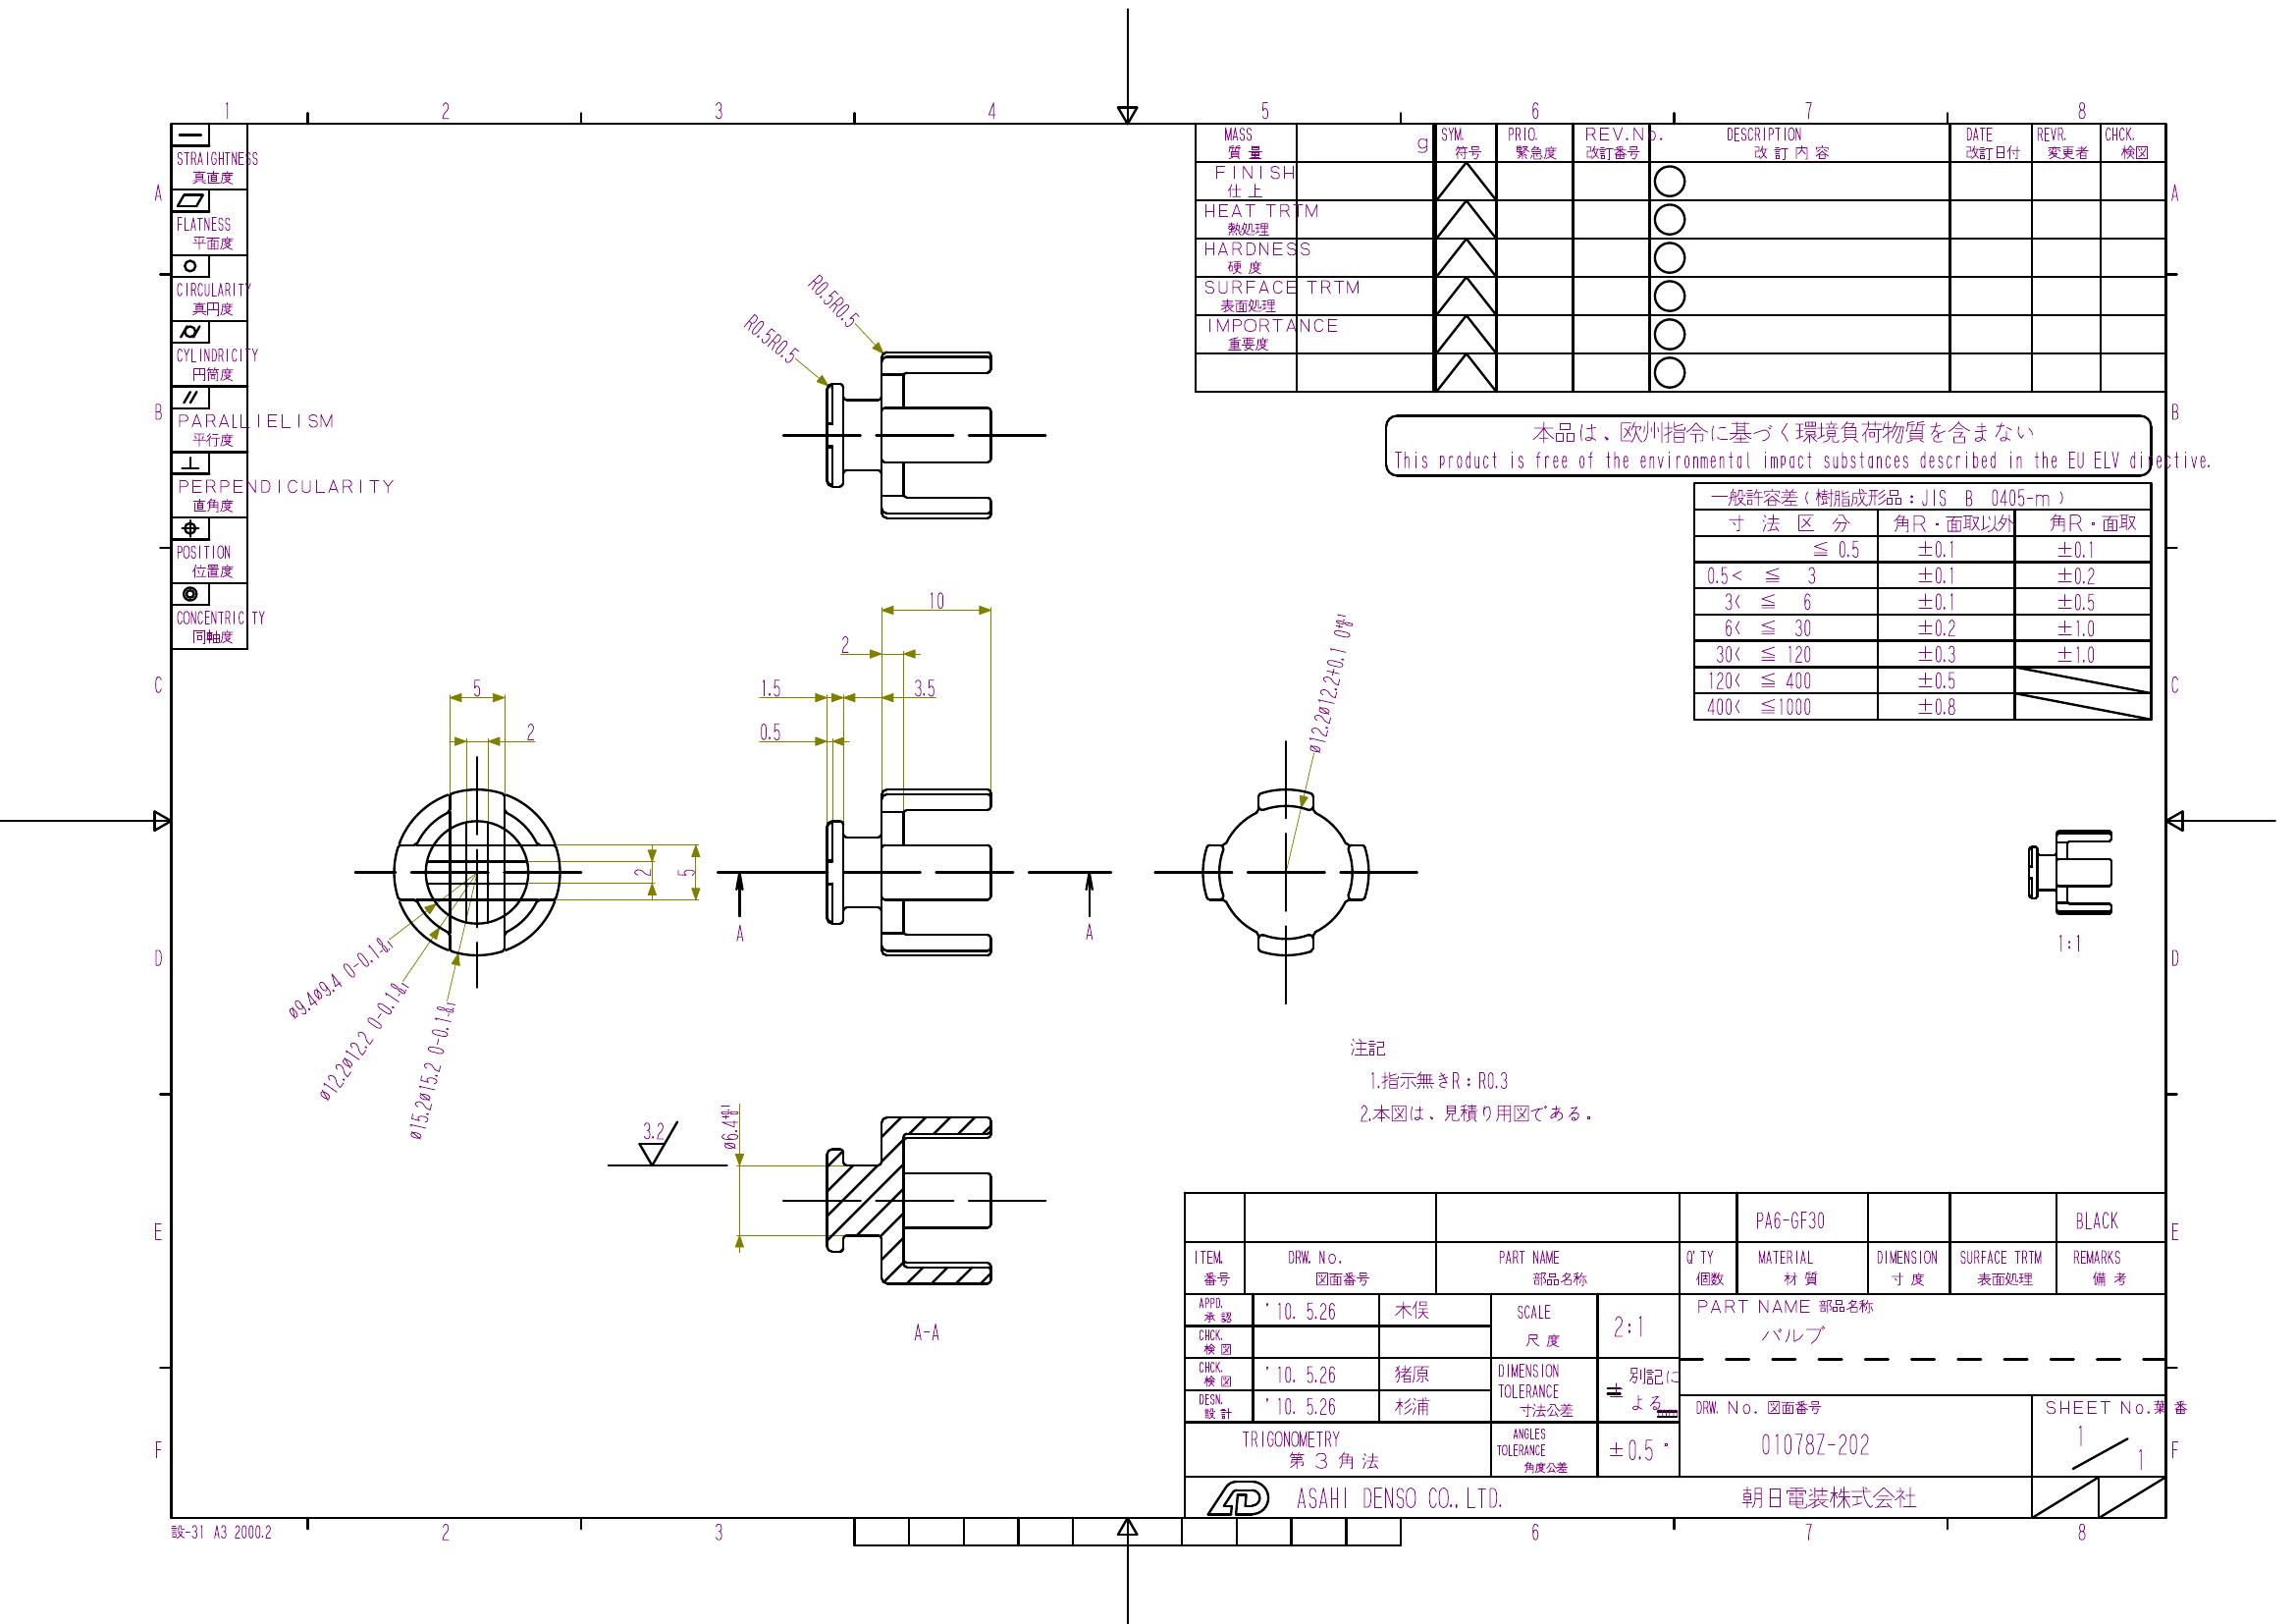anntotation_text: (1383, 415, 2148, 475), (1347, 1028, 1595, 1134), (170, 1519, 279, 1543), (908, 1318, 945, 1345), (2055, 932, 2087, 953), (729, 921, 752, 942), (1080, 923, 1100, 942)
dimension_text: (1312, 603, 1347, 752), (415, 998, 446, 1142), (281, 1025, 437, 1053), (272, 965, 401, 991), (733, 325, 806, 350), (801, 290, 870, 311), (720, 1100, 738, 1155), (910, 675, 936, 700), (924, 589, 952, 612), (755, 677, 783, 700), (638, 1121, 669, 1141), (757, 719, 783, 740), (631, 859, 653, 881), (522, 719, 541, 743), (467, 675, 487, 698), (838, 631, 854, 652), (675, 865, 694, 881)
object: (822, 786, 991, 954), (1200, 789, 1370, 956), (824, 348, 989, 520), (390, 791, 562, 954), (827, 1116, 991, 1285), (2027, 831, 2113, 914)
title_block: (1182, 1190, 2168, 1517), (1193, 127, 2168, 392), (1693, 480, 2157, 722), (169, 121, 246, 650)
